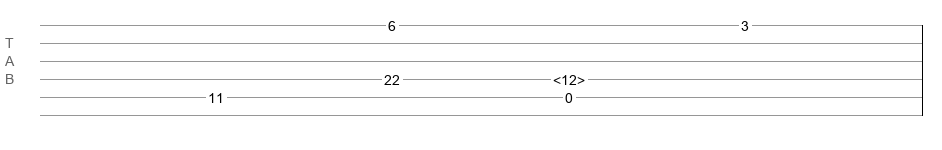0: (565, 90, 573, 100)
11: (208, 90, 224, 100)
22: (384, 72, 400, 82)
3: (741, 18, 749, 28)
6: (388, 18, 396, 28)
harmonic: (553, 72, 585, 82)
